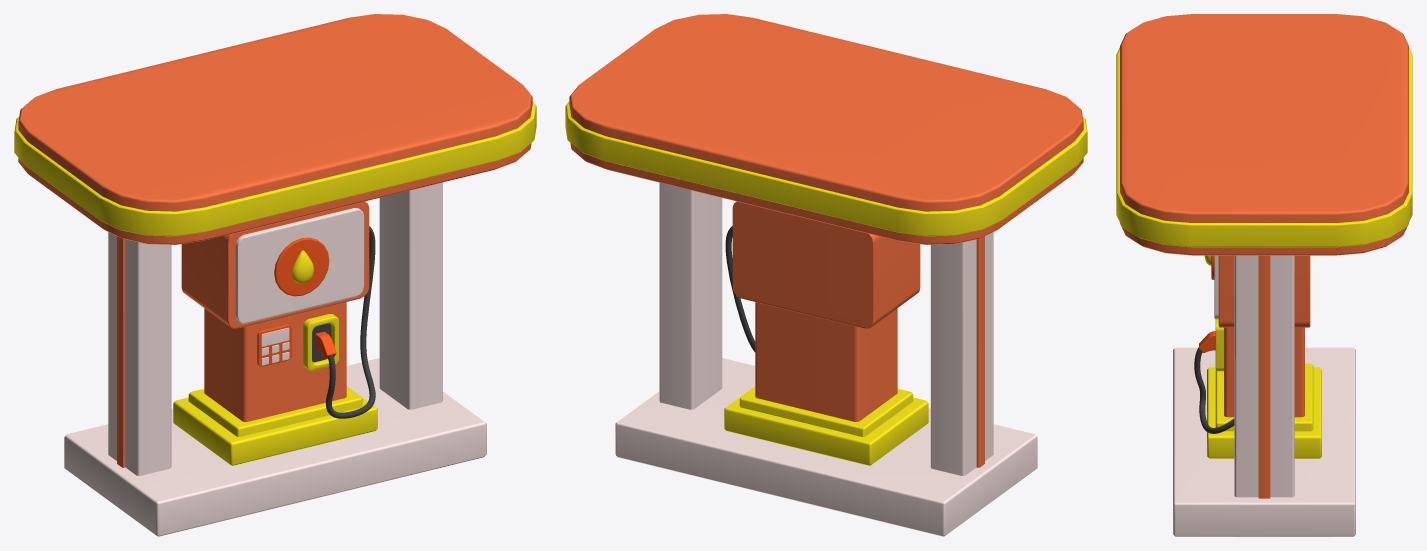
Rendered from Public_5_Gas_Station_1.glb.
3 renders of one model, left to right at view 1: azimuth 30°, elevation 25°; view 2: azimuth 150°, elevation 25°; view 3: azimuth 270°, elevation 25°, orthographic. The views are drawn at different scales.
Parts seen in each view (by area): view 1: Public_5_Gas_Station_1; view 2: Public_5_Gas_Station_1; view 3: Public_5_Gas_Station_1.
Boxes of the visible parts, bbox=[...] form: Public_5_Gas_Station_1: bbox=[14, 14, 536, 536]; Public_5_Gas_Station_1: bbox=[565, 14, 1087, 536]; Public_5_Gas_Station_1: bbox=[1116, 14, 1412, 536].
Bounding box in the file's own units: 4.79 × 3.82 × 2.96.
1 material, 1 textured.
